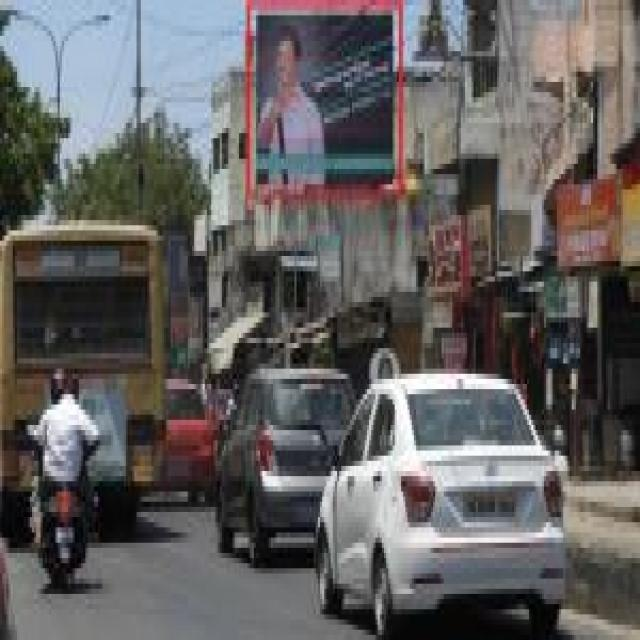Werbetafel frei: (257, 12, 395, 185)
